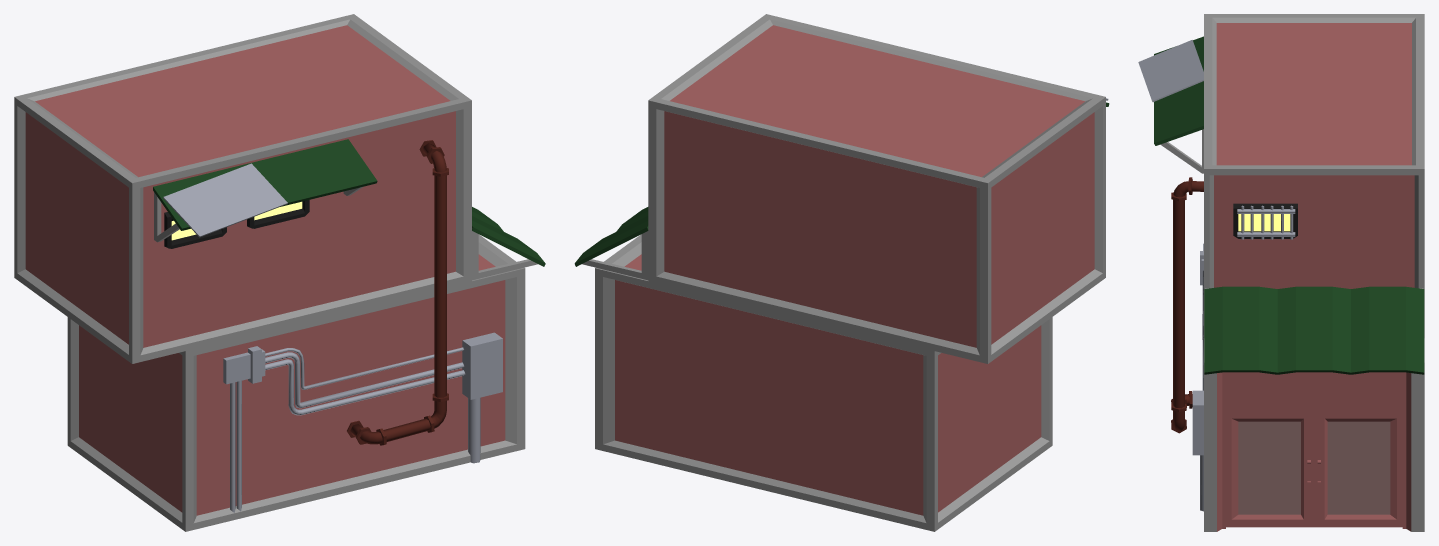
File: Garage2.fbx
The picture shows the model from 3 angles, left to right: view 1: azimuth 30°, elevation 25°; view 2: azimuth 150°, elevation 25°; view 3: azimuth 270°, elevation 25°; orthographic projection. The views are drawn at different scales.
Parts seen in each view (by area): view 1: garage 5.001, garage 5, pristroikaKrisha3, Provodka6, pipe2, pristroikaKrisha2, pristroikaWindow5.003, pristroikaWindow5.002; view 2: garage 5.001, garage 5, pristroikaKrisha2; view 3: garage 5.001, pristroikaKrisha2, garage 5, garage2door.002, garage2door.003, pristroikaKrisha3, pipe2, pristroikaWindow6, Provodka6, Grid.
Part boxes in pixels (x1,y1,x2,y2): garage 5.001: [14, 14, 471, 363]; garage 5: [67, 234, 525, 531]; pristroikaKrisha3: [153, 139, 377, 242]; Provodka6: [223, 332, 502, 512]; pipe2: [347, 140, 448, 445]; pristroikaKrisha2: [472, 207, 545, 280]; pristroikaWindow5.003: [247, 200, 309, 228]; pristroikaWindow5.002: [164, 212, 226, 248]; garage 5.001: [648, 14, 1105, 363]; garage 5: [595, 234, 1052, 531]; pristroikaKrisha2: [574, 207, 648, 280]; garage 5.001: [1204, 14, 1424, 337]; pristroikaKrisha2: [1204, 286, 1424, 374]; garage 5: [1204, 338, 1424, 531]; garage2door.002: [1314, 415, 1402, 527]; garage2door.003: [1226, 415, 1314, 527]; pristroikaKrisha3: [1138, 36, 1203, 173]; pipe2: [1171, 177, 1203, 433]; pristroikaWindow6: [1233, 203, 1297, 238]; Provodka6: [1192, 243, 1203, 511]; Grid: [1237, 205, 1295, 239].
Bounding box in the file's own units: 761 × 634 × 486.
